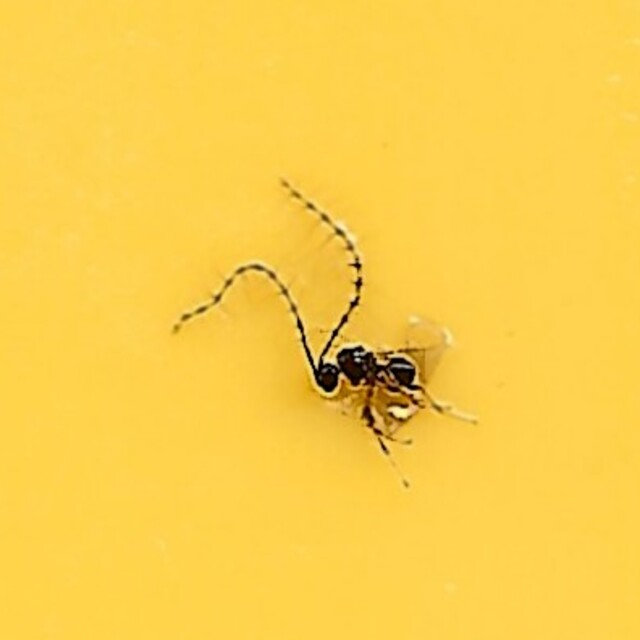Hymenoptera: (162, 181, 478, 459)
